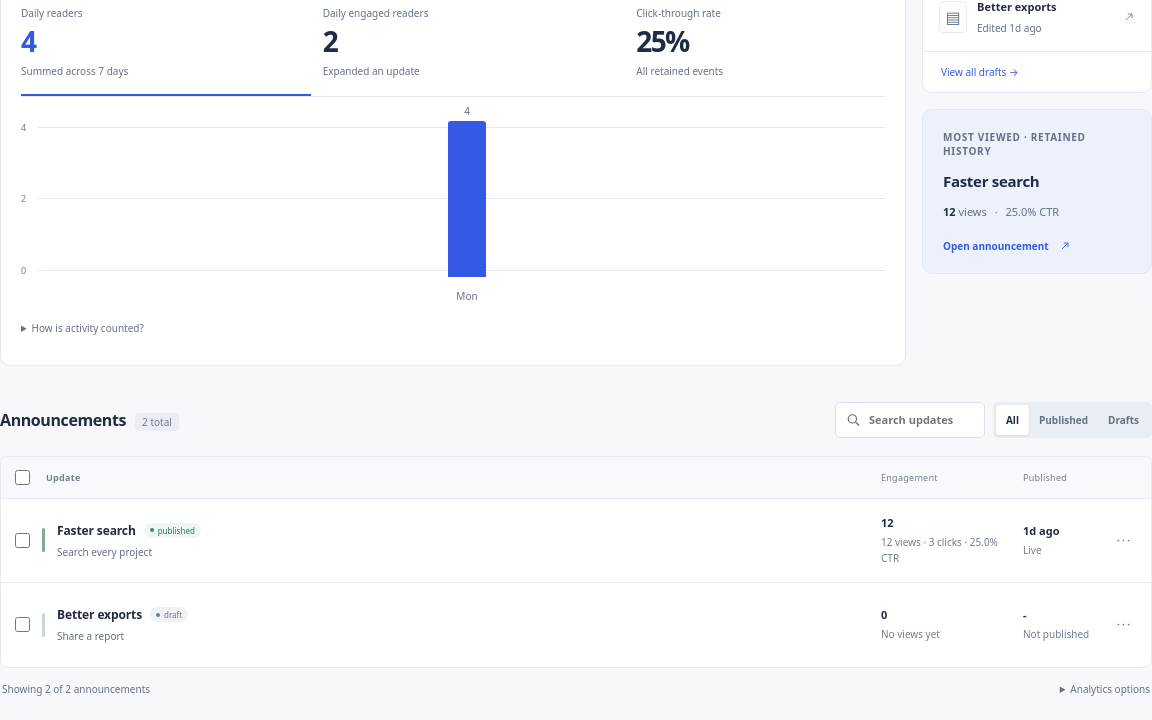
Publishing workspace › clears selections when search changes
This screenshot has width=1152, height=720.
(page scrolled)
Click the checkbox named "Select Faster search" at (22, 540), box [15,533,30,548]
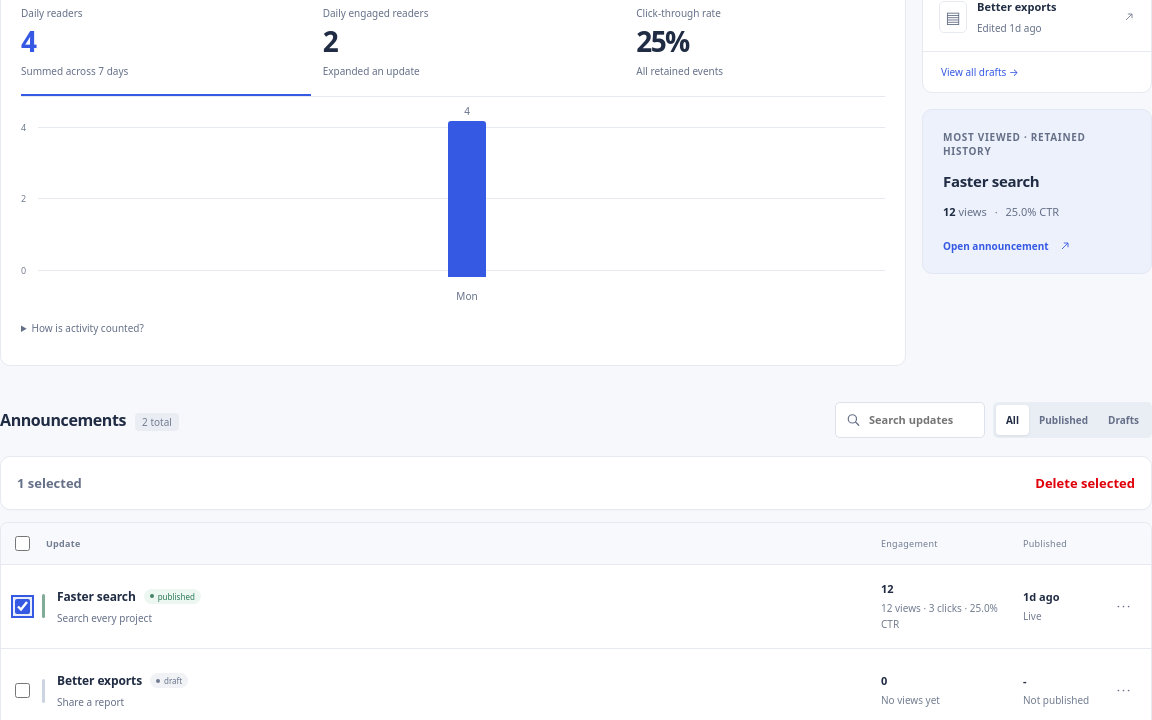
Type "exports" into the field named "Search announcements" at (910, 420), box [835,402,985,438]
(page scrolled)
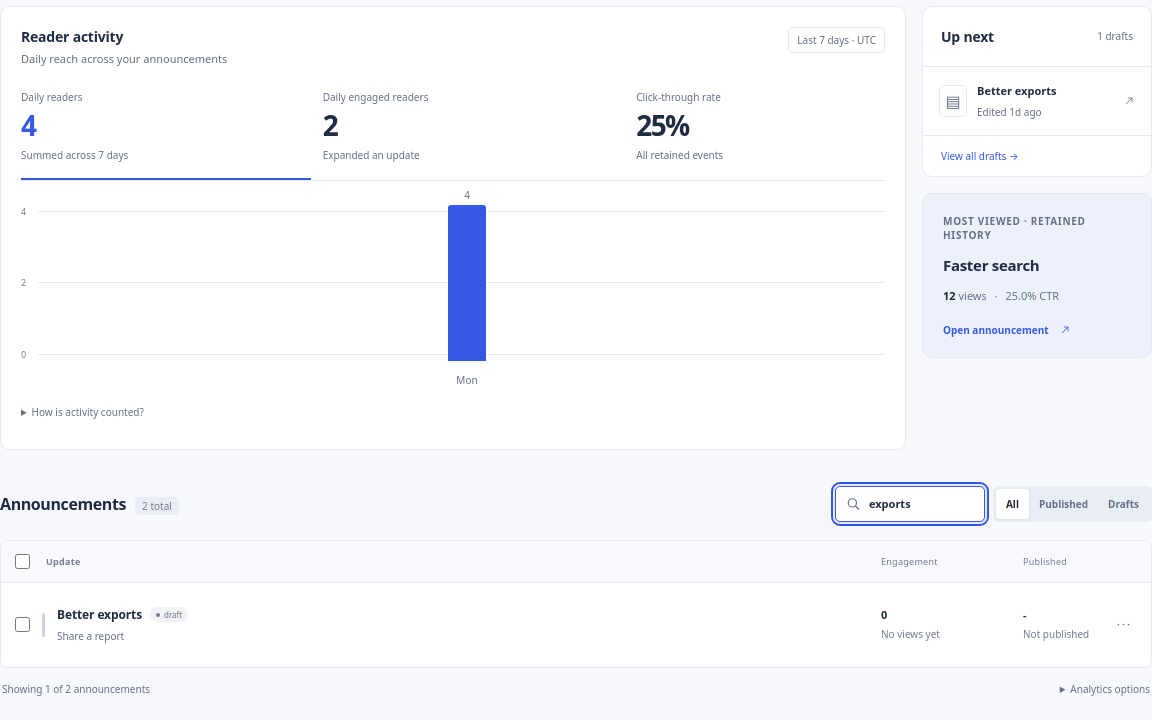
expect the checkbox named "Select Better exports" is shown: met, box [15,617,30,632]
expect the button "Delete selected" is gone: met
